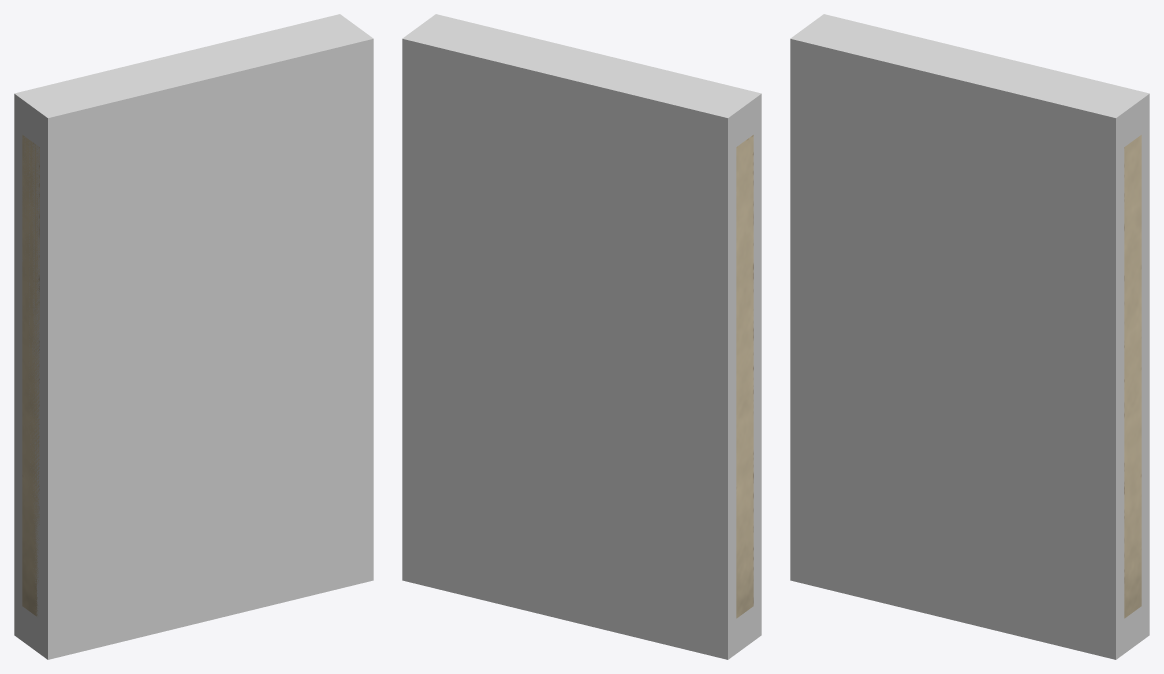
Rendered from house_wall_door.glb.
The picture shows the model from 3 angles, left to right: view 1: azimuth 30°, elevation 25°; view 2: azimuth 150°, elevation 25°; view 3: azimuth 330°, elevation 25°; orthographic projection.
Visible parts, largest first — view 1: COL_house_wall_door_static_00, house_wall_door_static; view 2: COL_house_wall_door_static_00, house_wall_door_static; view 3: COL_house_wall_door_static_00, house_wall_door_static.
Part boxes in pixels (left/top/right/bottom): COL_house_wall_door_static_00: left=14, top=14, right=373, bottom=659; house_wall_door_static: left=22, top=135, right=39, bottom=616; COL_house_wall_door_static_00: left=402, top=14, right=761, bottom=659; house_wall_door_static: left=736, top=135, right=753, bottom=618; COL_house_wall_door_static_00: left=790, top=14, right=1149, bottom=659; house_wall_door_static: left=1124, top=135, right=1141, bottom=618.
Size of the model in its own units: 1.75 by 2.78 by 0.3142.
4 materials, 4 textured.
